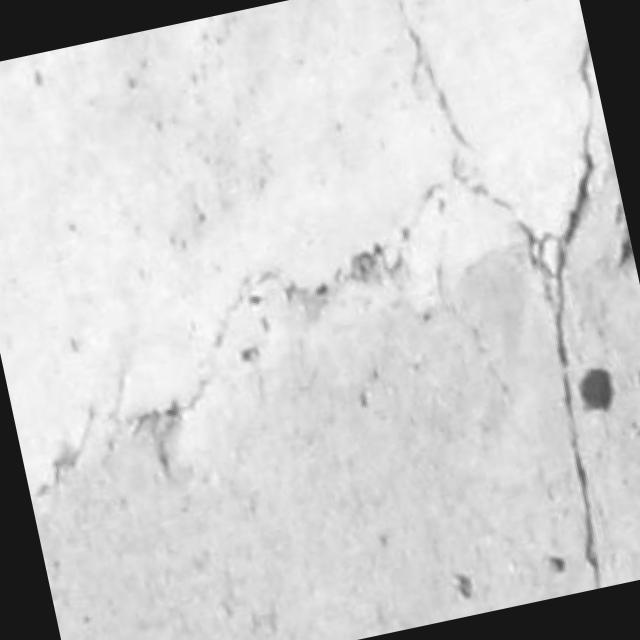crack: (531, 37, 603, 588), (398, 0, 472, 147), (36, 406, 96, 496), (133, 402, 187, 479), (451, 156, 513, 213)
